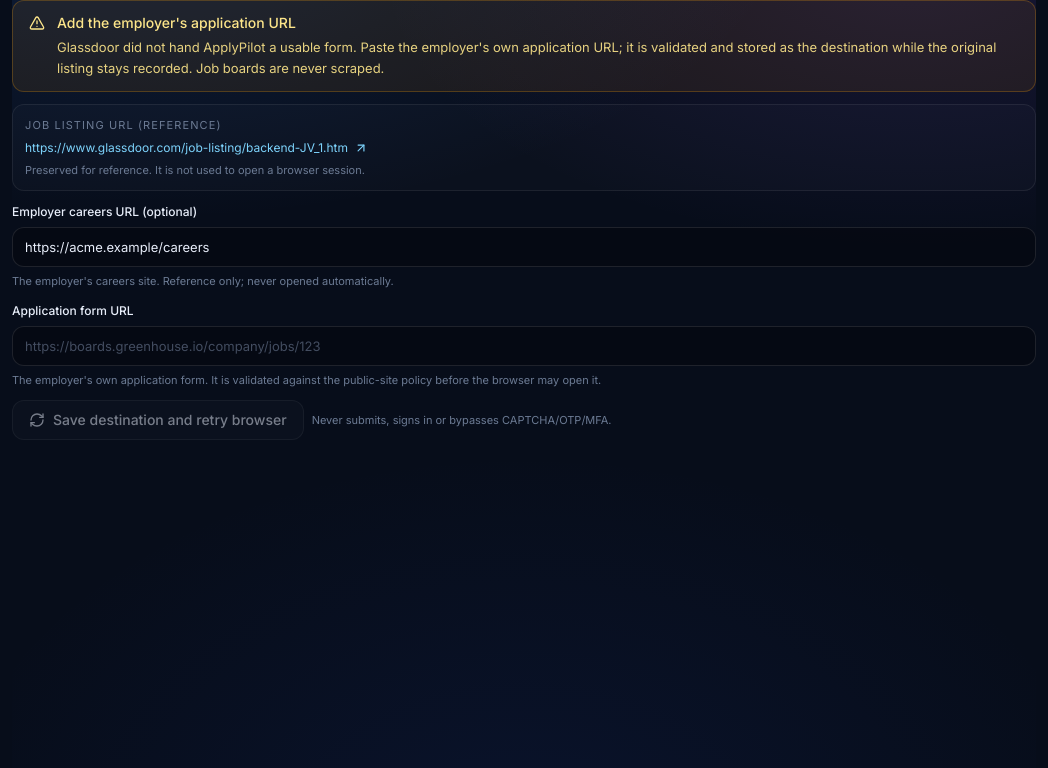
Test: EmployerApplicationUrlForm › stores a manual destination separately instead of inspecting the URL
The width and height of the screenshot is (1048, 768).
Type "https://boards.greenhouse.io/acme/jobs/123" into the field named "Employer application URL".
click(524, 346); type("https://boards.greenhouse.io/acme/jobs/123")  # box [12, 326, 1036, 366]
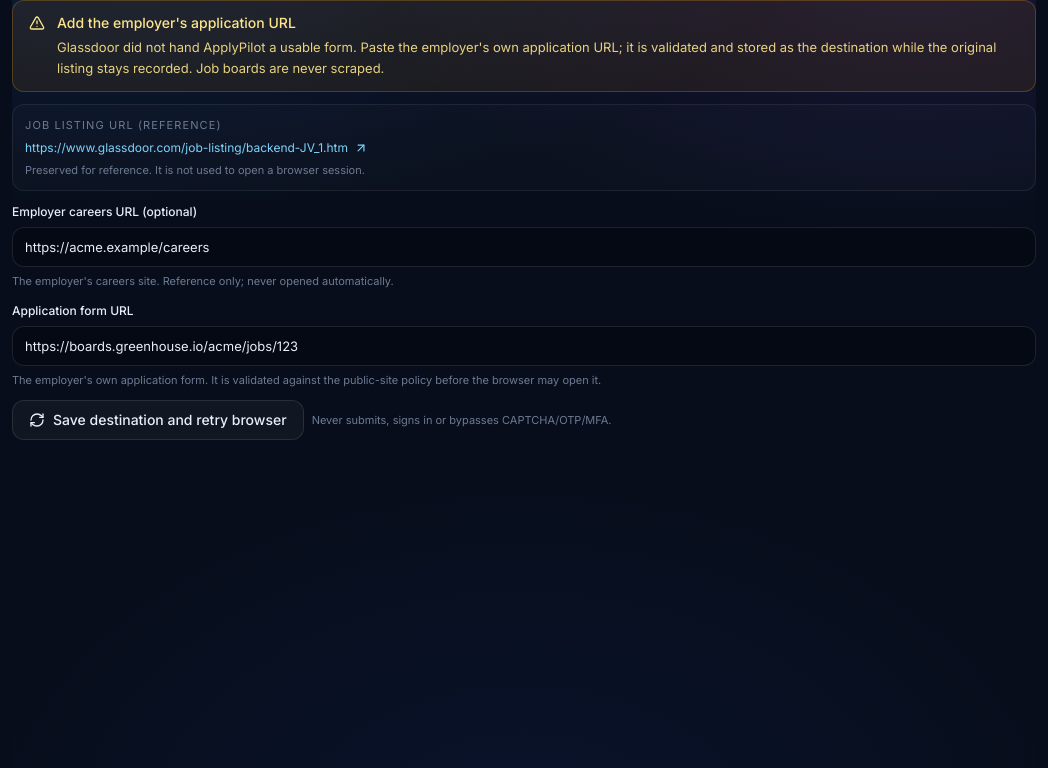
Click the button "Save destination and retry browser".
click(158, 420)  # box [12, 400, 304, 440]
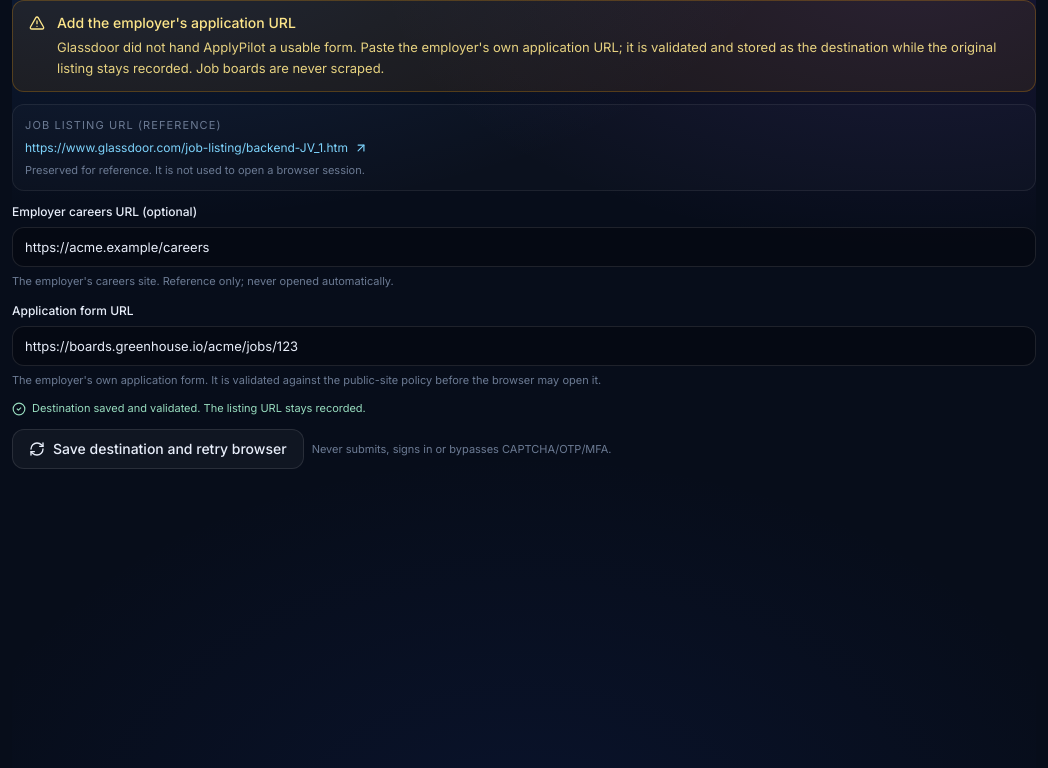
expect the text "Destination saved and validated" is shown: met, box [32, 401, 366, 415]
